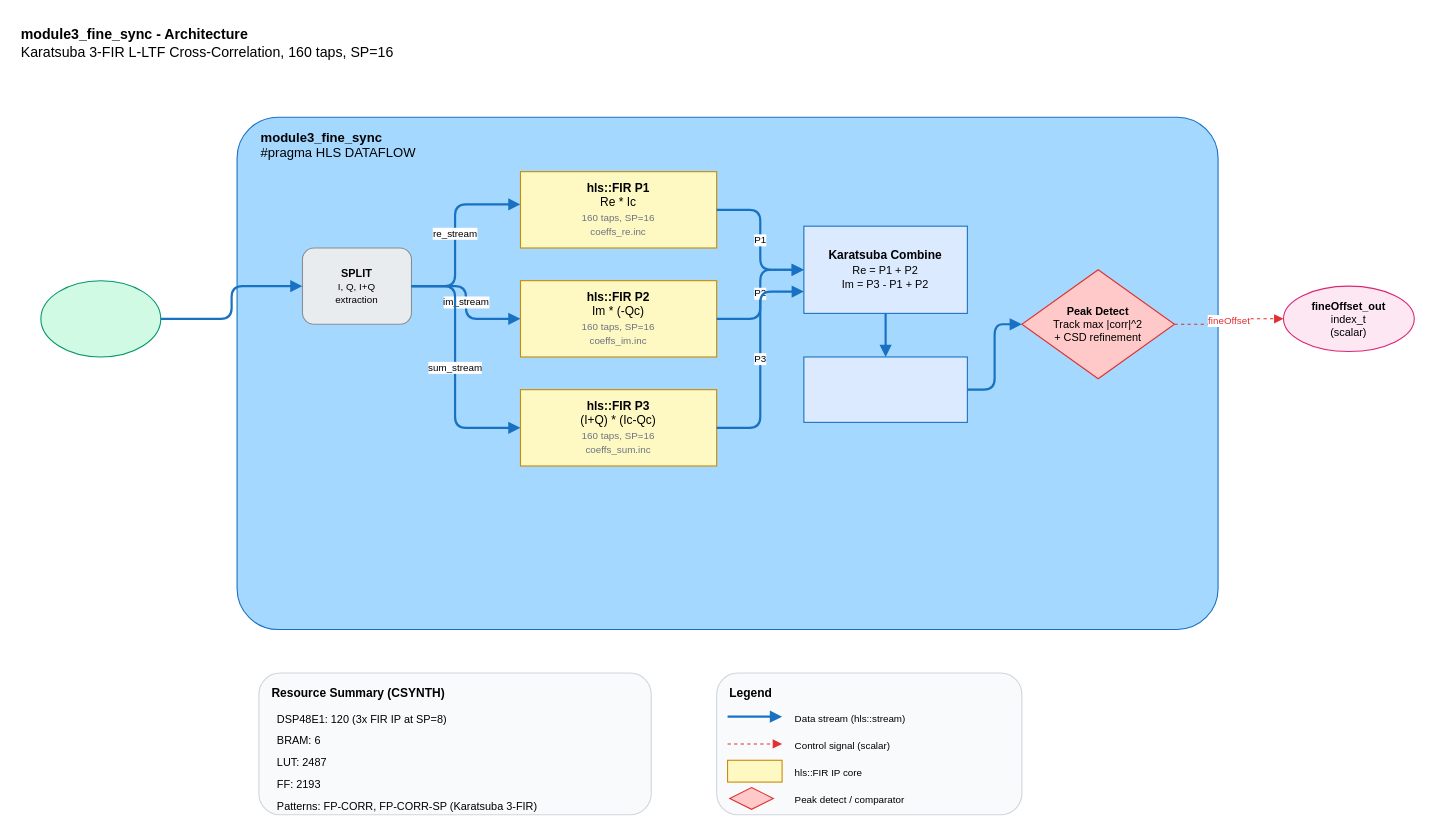
Image size: 1433x834. Some labels were removed from this diagram. Each missing label, with the centre of its shape:
"> THR" goes at [751,797].
"data_in complex_t 640 samples" goes at [100,318].
"FIR IP" goes at [754,770].
"|corr|^2 Re^2 + Im^2" goes at [885,389].
